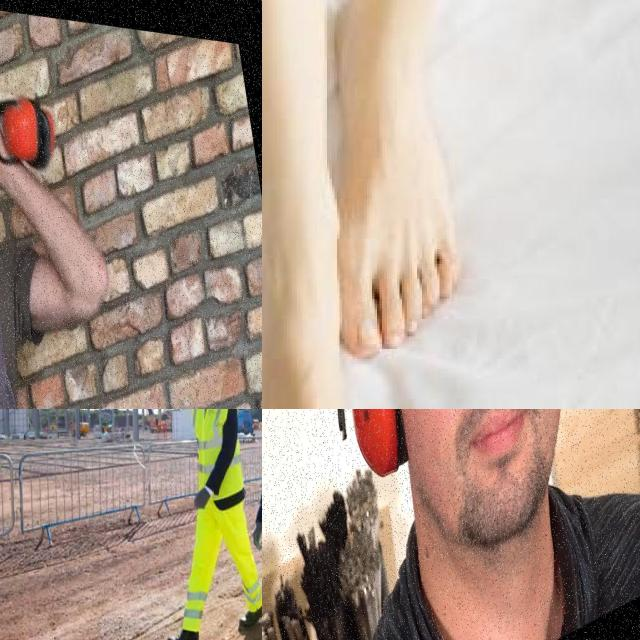Barefoots: (338, 20, 483, 370), (262, 217, 346, 409)
Ear-protection: (332, 409, 603, 485)
hand_glove: (249, 516, 262, 560), (193, 489, 216, 512)
person: (332, 409, 640, 614), (164, 409, 262, 640)
shoes: (236, 601, 262, 632), (163, 624, 199, 640)
vest: (190, 409, 245, 502)
